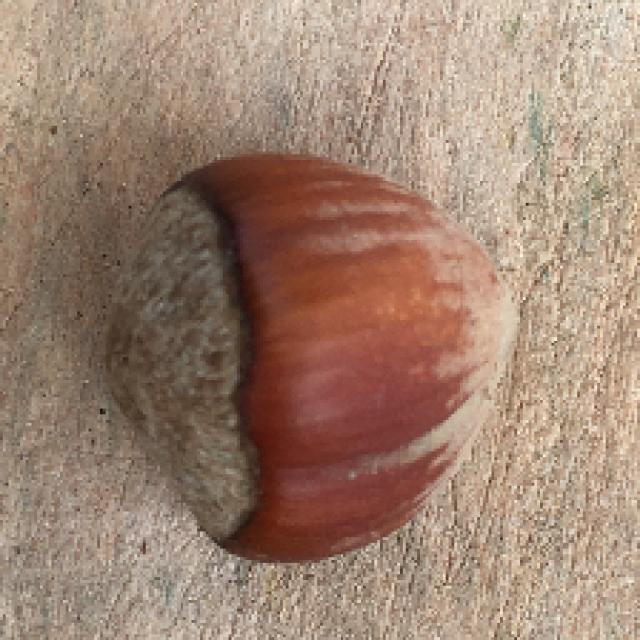qualityHazelnut: (94, 168, 525, 558)
